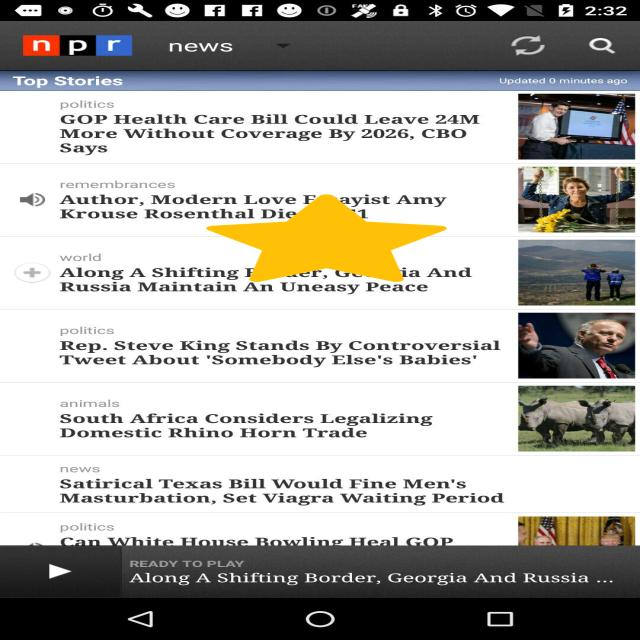forced continuity: (206, 194, 447, 282)
